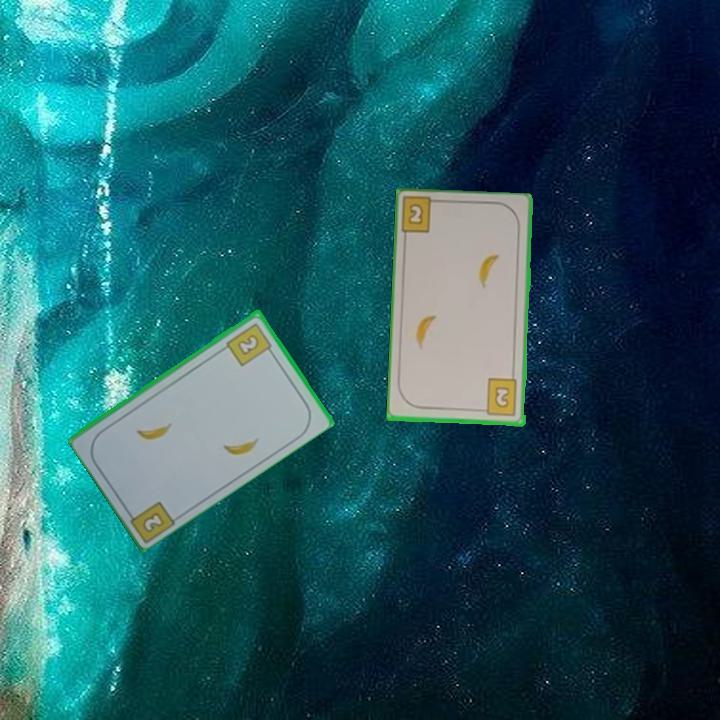2b: (122, 497, 179, 544), (223, 319, 276, 369), (399, 195, 444, 237), (477, 376, 520, 419)
